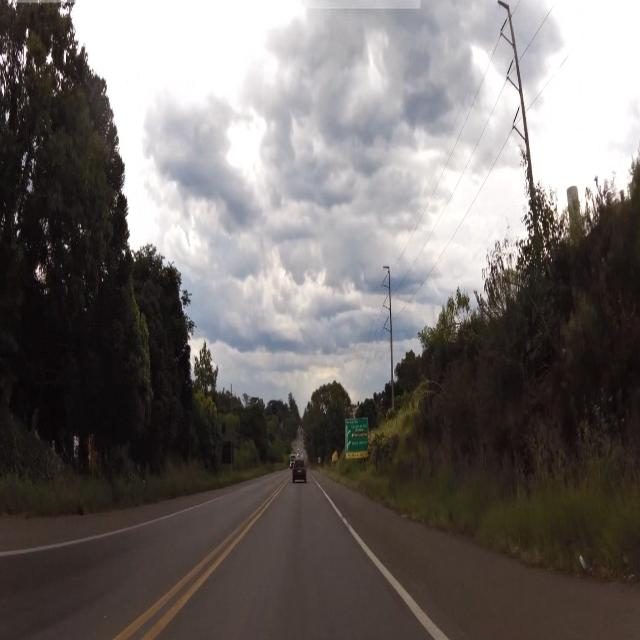R-19: (345, 422, 369, 462)
